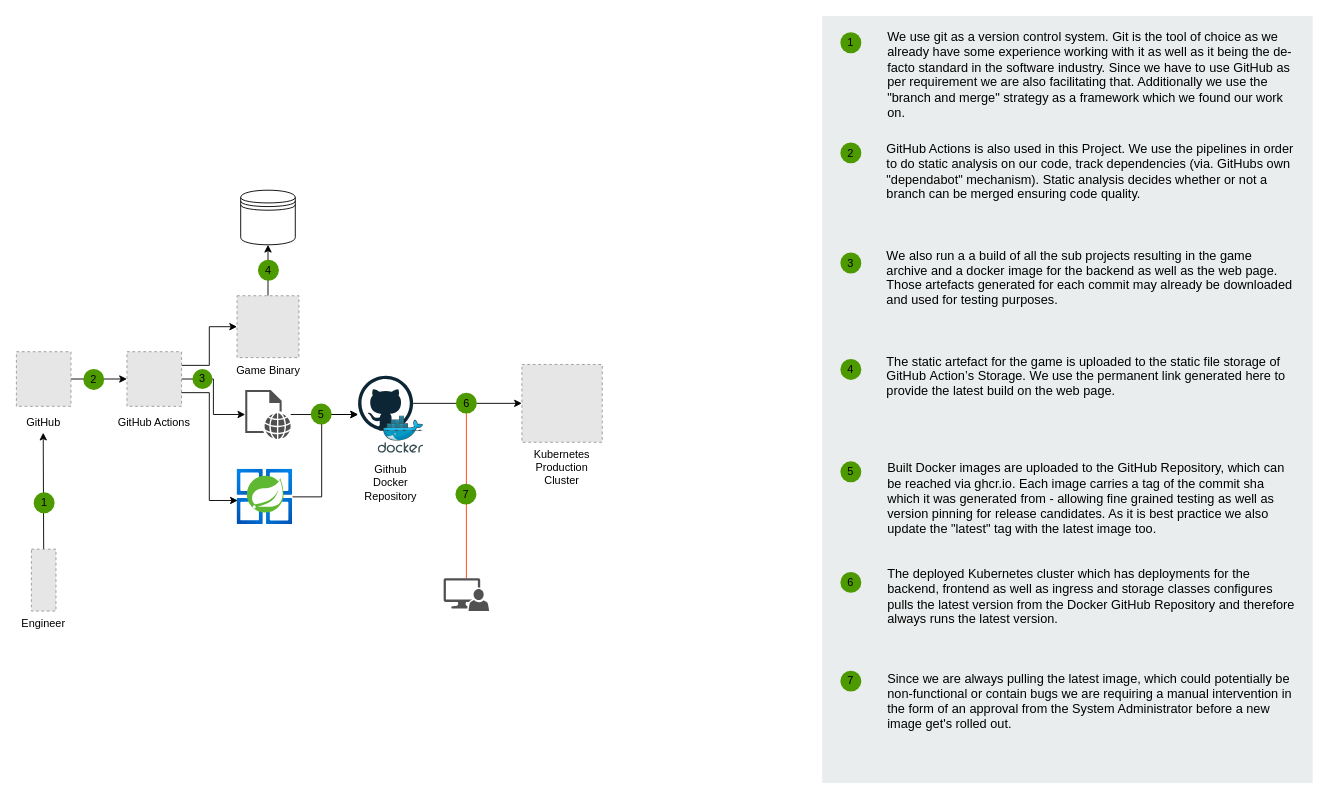
The diagram is 1328 pixels wide and 798 high, and some of its shapes have lost their labels. Grey dashed boxes stand in for pictures. The centre of each missing label's shape, as x and y in pixels:
"Backend" goes at pixel 264 496.
"Github Artifact" goes at pixel 267 217.
"System Administrator" goes at pixel 466 594.
"WebPage" goes at pixel 267 414.
